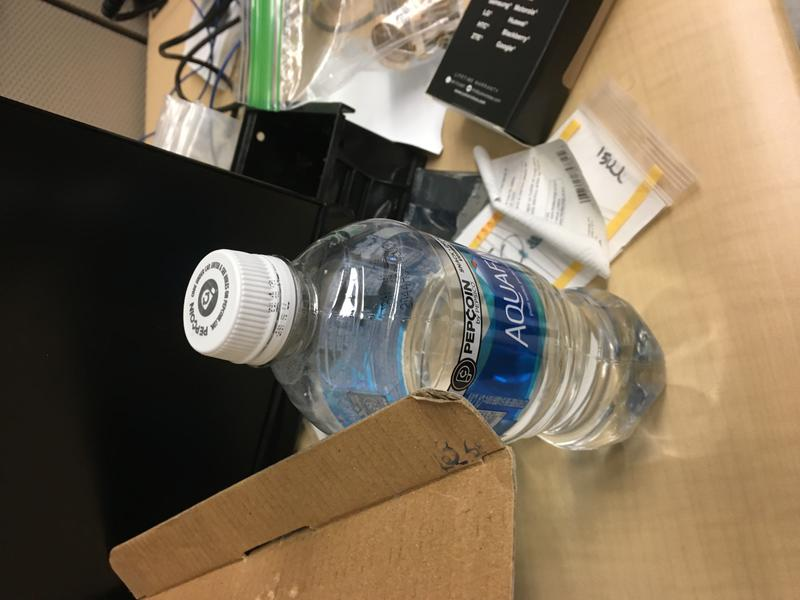bottle: (181, 212, 667, 455)
